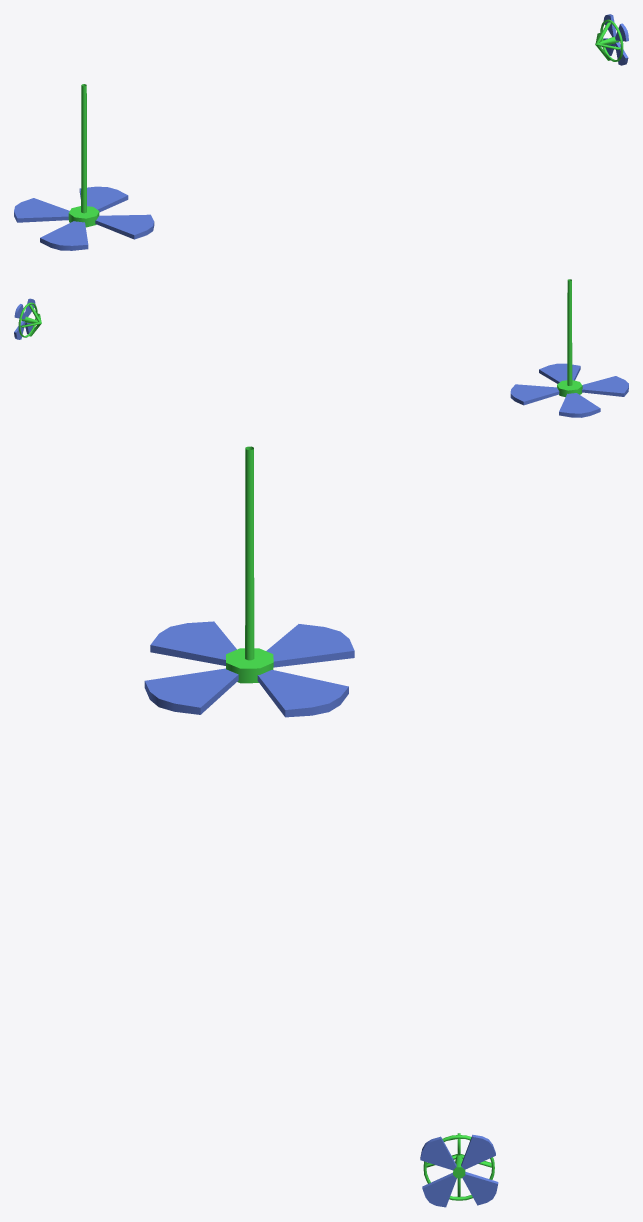
File: fans.fbx
The picture shows the model from 3 angles, top to bottom: view 1: azimuth 30°, elevation 25°; view 2: azimuth 150°, elevation 25°; view 3: azimuth 270°, elevation 25°; orthographic projection. The views are drawn at different scales.
Parts seen in each view (by area): view 1: fan_4, fan_3, fan_2, fan_1; view 2: fan_4, fan_3, fan_2, fan_1; view 3: fan_4, fan_3, fan_1.
Part boxes in pixels (x1=…): fan_4: x1=14, y1=186, x2=154, y2=250; fan_3: x1=68, y1=84, x2=99, y2=227; fan_2: x1=595, y1=19, x2=623, y2=61; fan_1: x1=603, y1=14, x2=628, y2=65; fan_4: x1=510, y1=363, x2=628, y2=417; fan_3: x1=557, y1=279, x2=582, y2=397; fan_2: x1=18, y1=302, x2=41, y2=337; fan_1: x1=14, y1=298, x2=35, y2=339; fan_4: x1=144, y1=621, x2=354, y2=717; fan_3: x1=226, y1=446, x2=273, y2=683; fan_1: x1=420, y1=1134, x2=498, y2=1207.
Bounding box in the file's own units: 4280 × 1051 × 1214.
